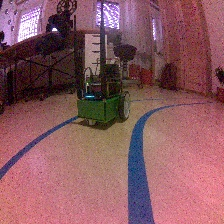rob: (77, 63, 131, 126)
